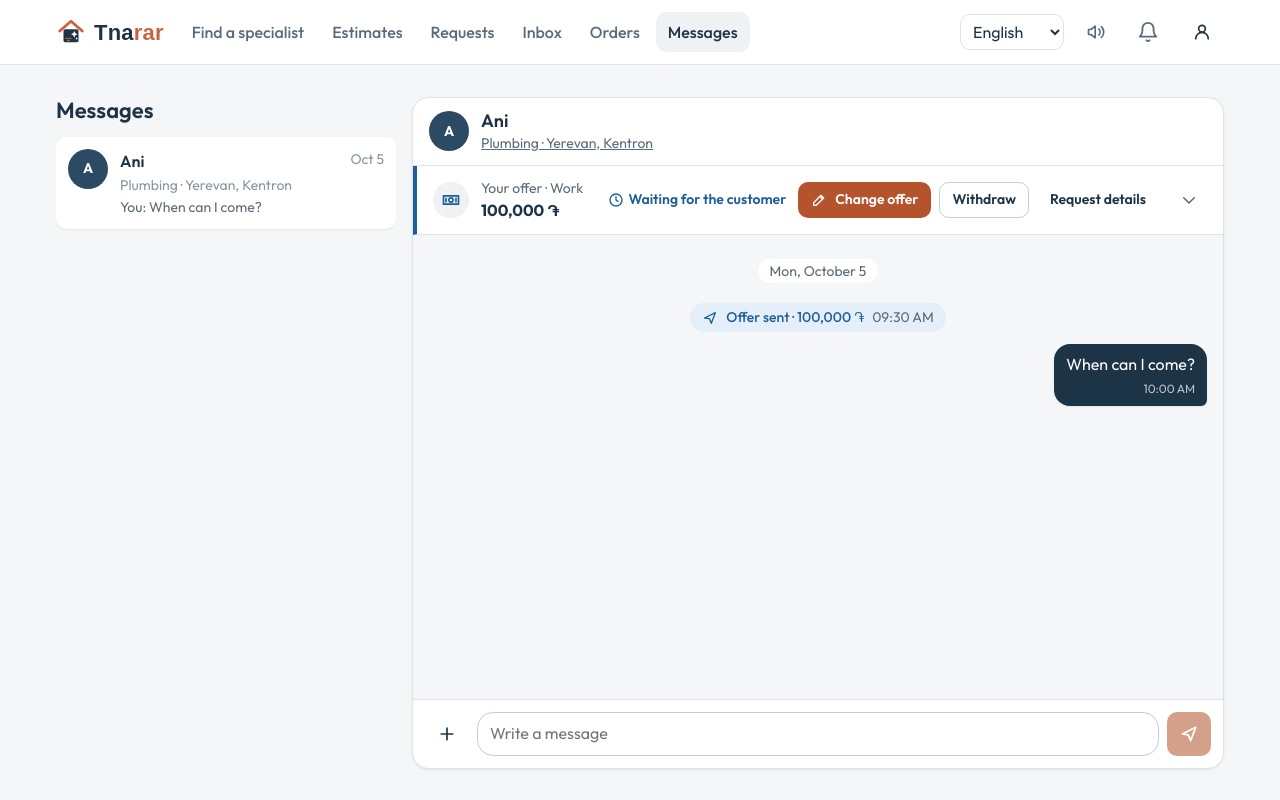
Test case: Offer in the chat › lets the specialist change or withdraw a waiting offer, then send a new one
The width and height of the screenshot is (1280, 800).
Click the button "Withdraw": (984,200) [939, 182, 1029, 218]
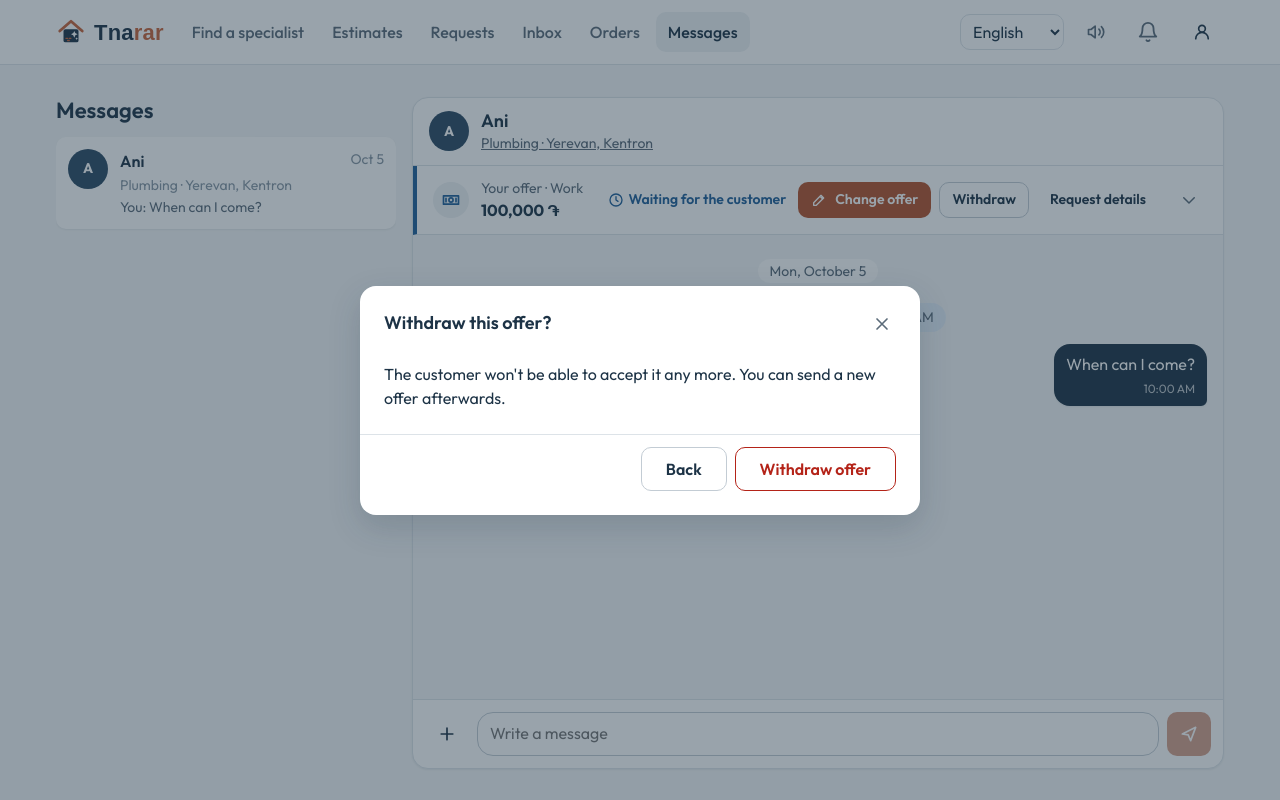
Click the button "Withdraw offer": (815,468) [735, 446, 896, 490]
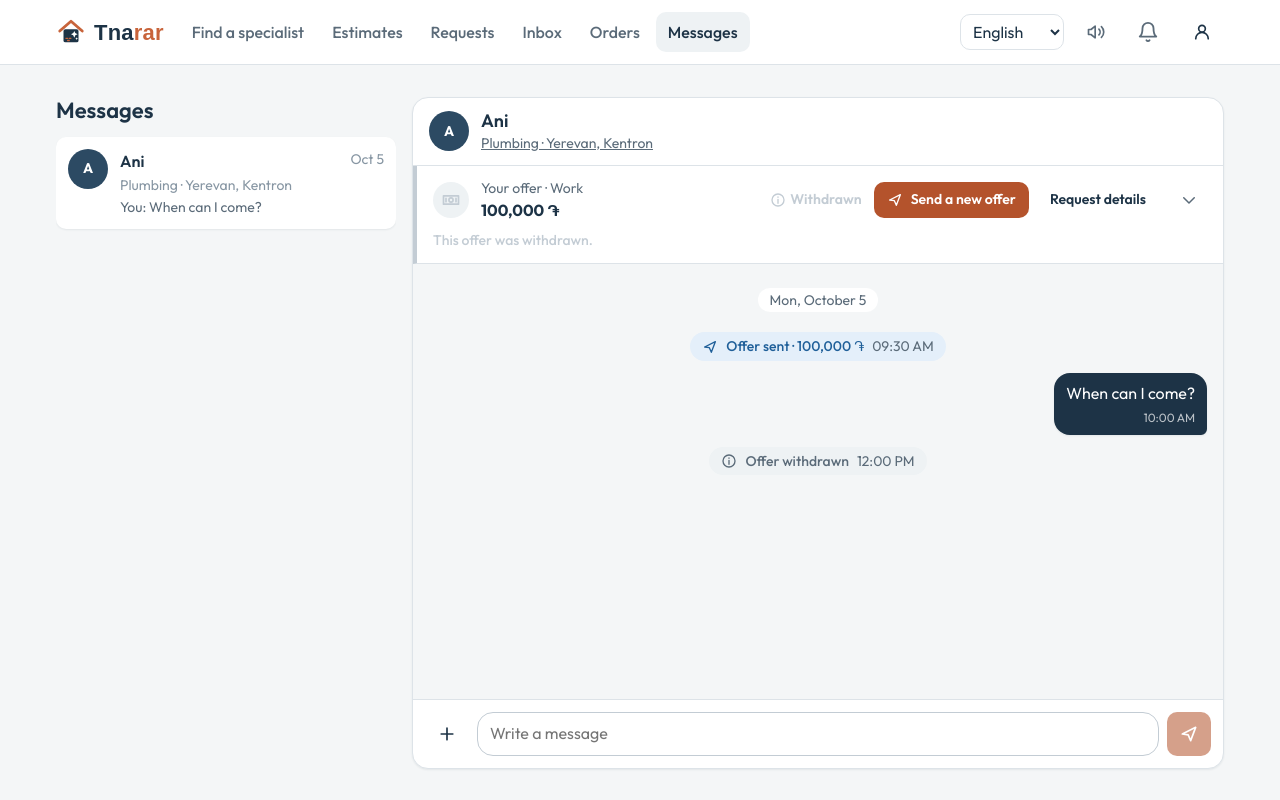
Result: the text "This offer was withdrawn." is shown at [433, 231, 593, 249]
Result: the link "Change offer" is gone
